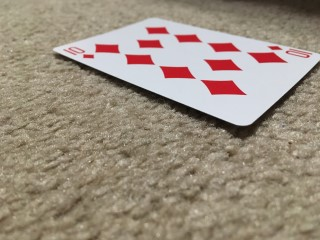TenOfDiamonds: (52, 18, 320, 125)
